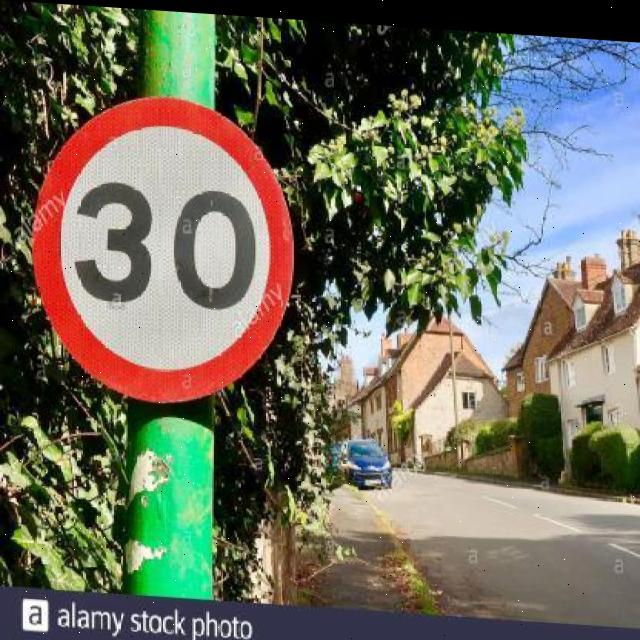Speed limit 30: (27, 84, 300, 412)
